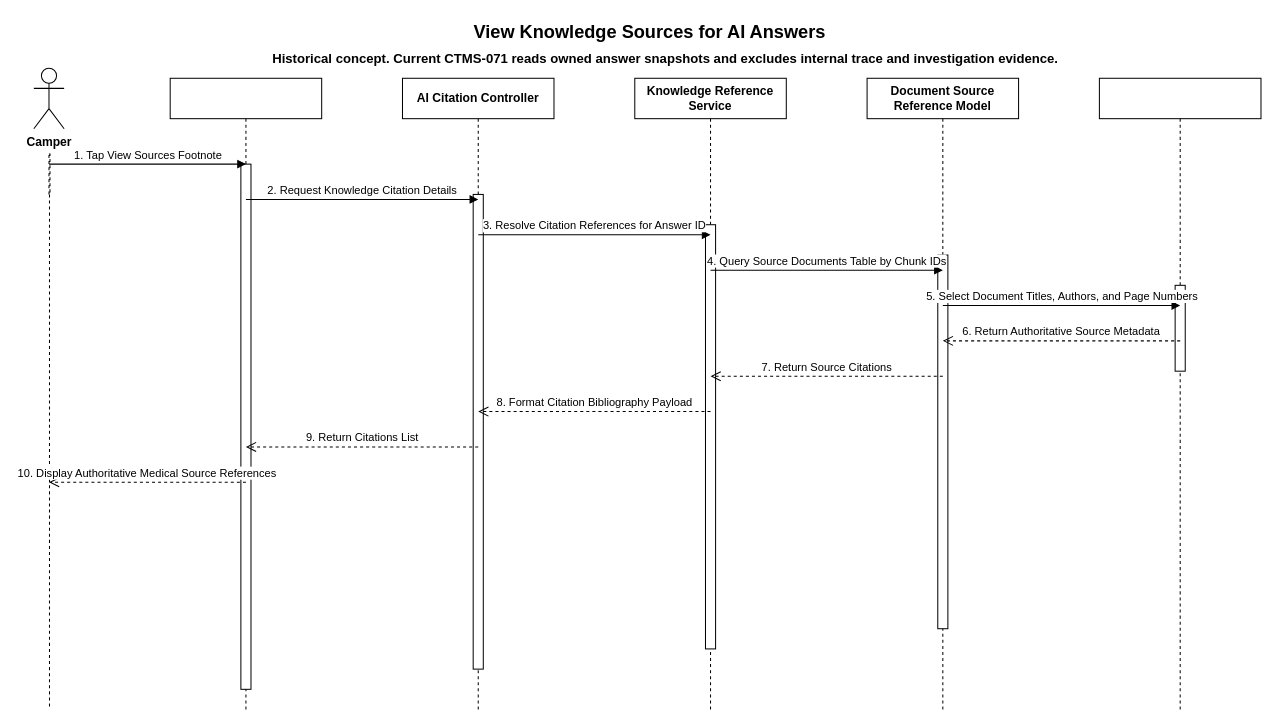
Image size: 1288x727. Some labels were removed from this diagram. The box of each missing label's shape, as (x1, y1, x2, y2) in pixels:
AI Answer Citation Sheet: (169, 77, 322, 710)
PostgreSQL Database: (1098, 77, 1261, 710)
